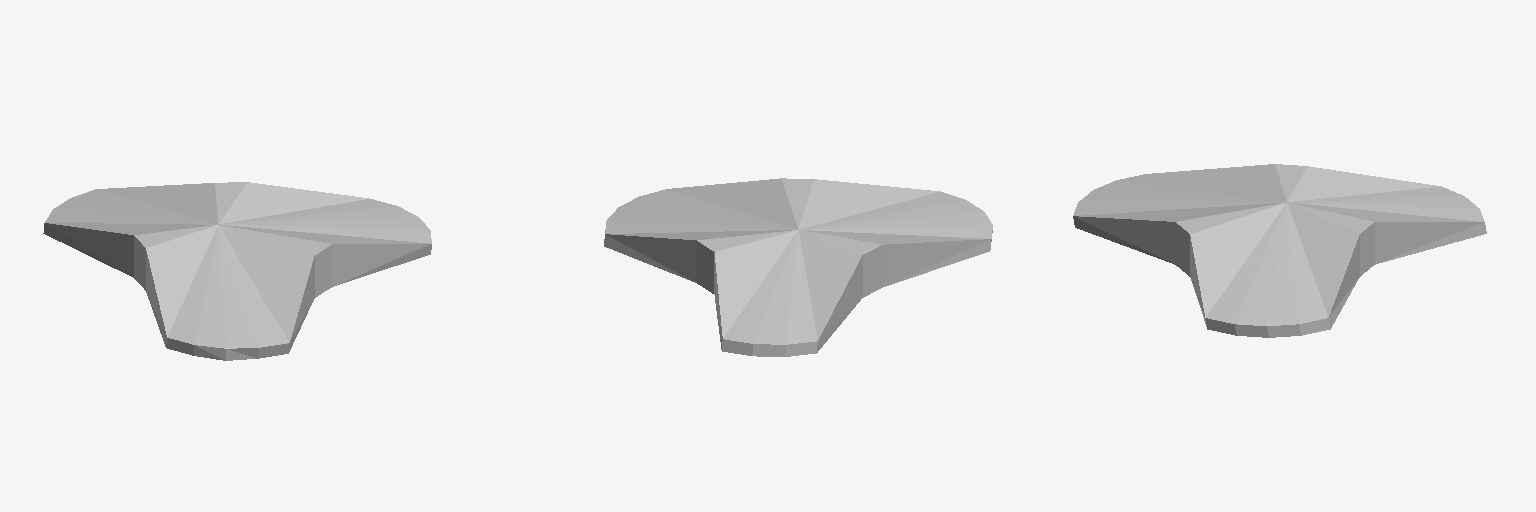
File: powerup_empty.obj
3 renders of one model, left to right at view 1: azimuth 30°, elevation 25°; view 2: azimuth 150°, elevation 25°; view 3: azimuth 270°, elevation 25°, orthographic.
Parts seen in each view (by area): view 1: polySurface6; view 2: polySurface6; view 3: polySurface6.
Part boxes in pixels (bbox=[...]): polySurface6: bbox=[43, 182, 431, 360]; polySurface6: bbox=[604, 178, 992, 356]; polySurface6: bbox=[1073, 164, 1486, 337].
Size of the model in its own units: 6.8 by 1.54 by 7.81.